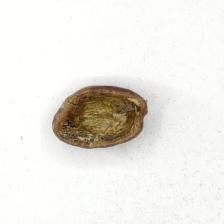NG: (56, 91, 142, 145)
